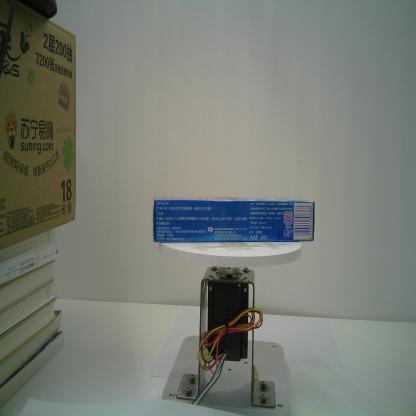Personal Hygiene: (149, 195, 317, 243)
